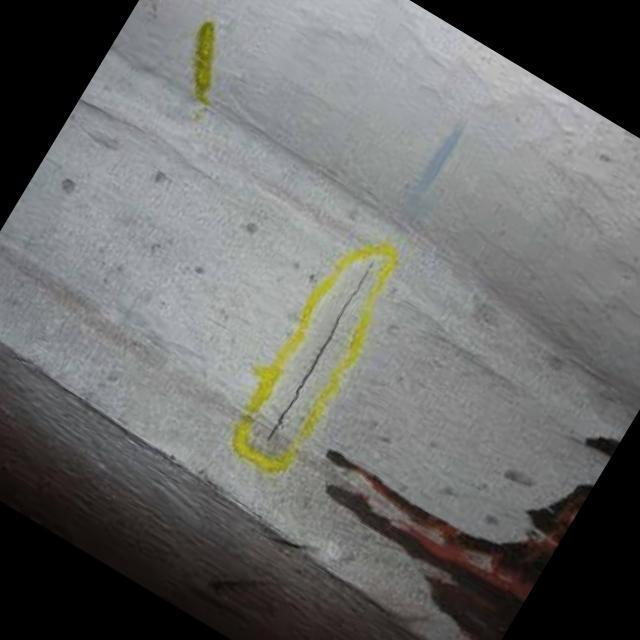defect: (265, 252, 378, 444)
